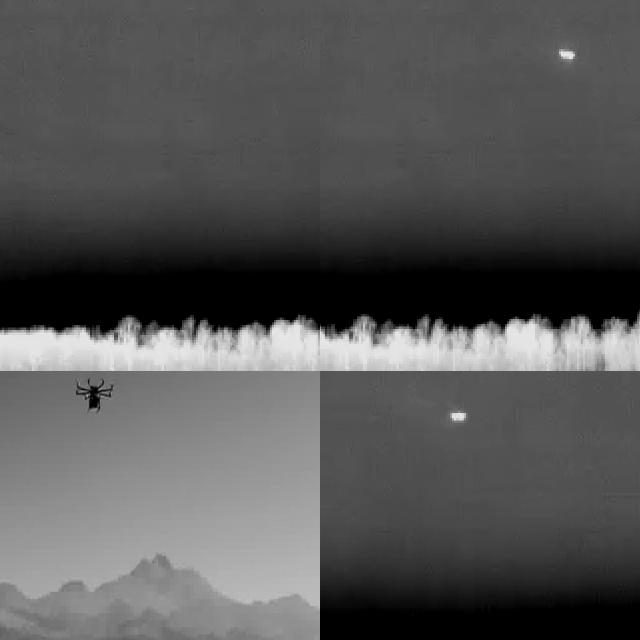1: (550, 44, 586, 74), (441, 406, 477, 436)
drone: (74, 371, 118, 421)
